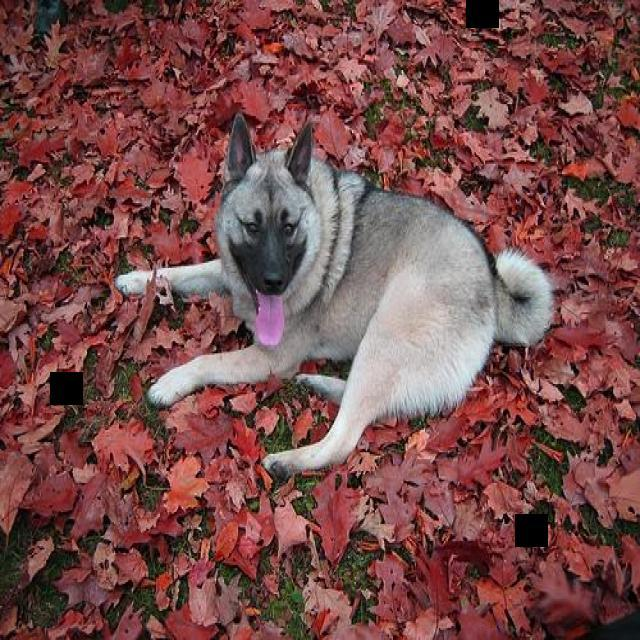adult_dog: (111, 111, 556, 484)
